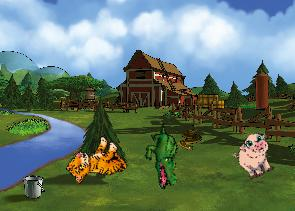crocodile: (134, 122, 193, 191)
pig: (229, 129, 281, 183)
tiger: (62, 129, 132, 198)
